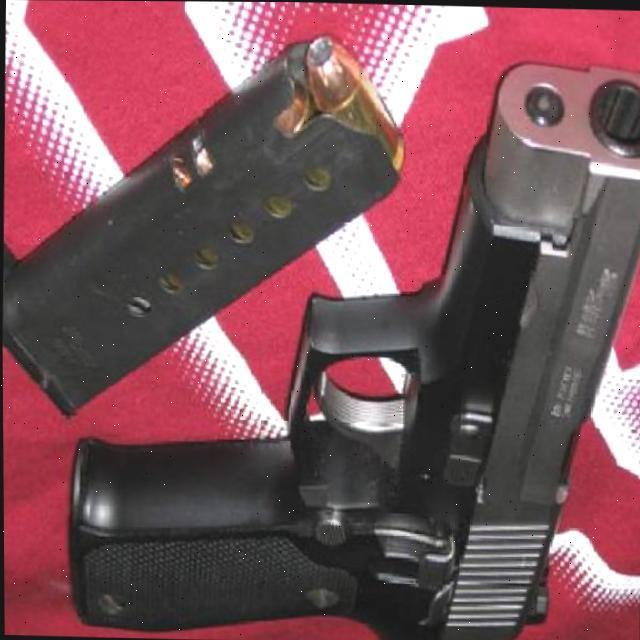gun: (64, 52, 640, 640)
